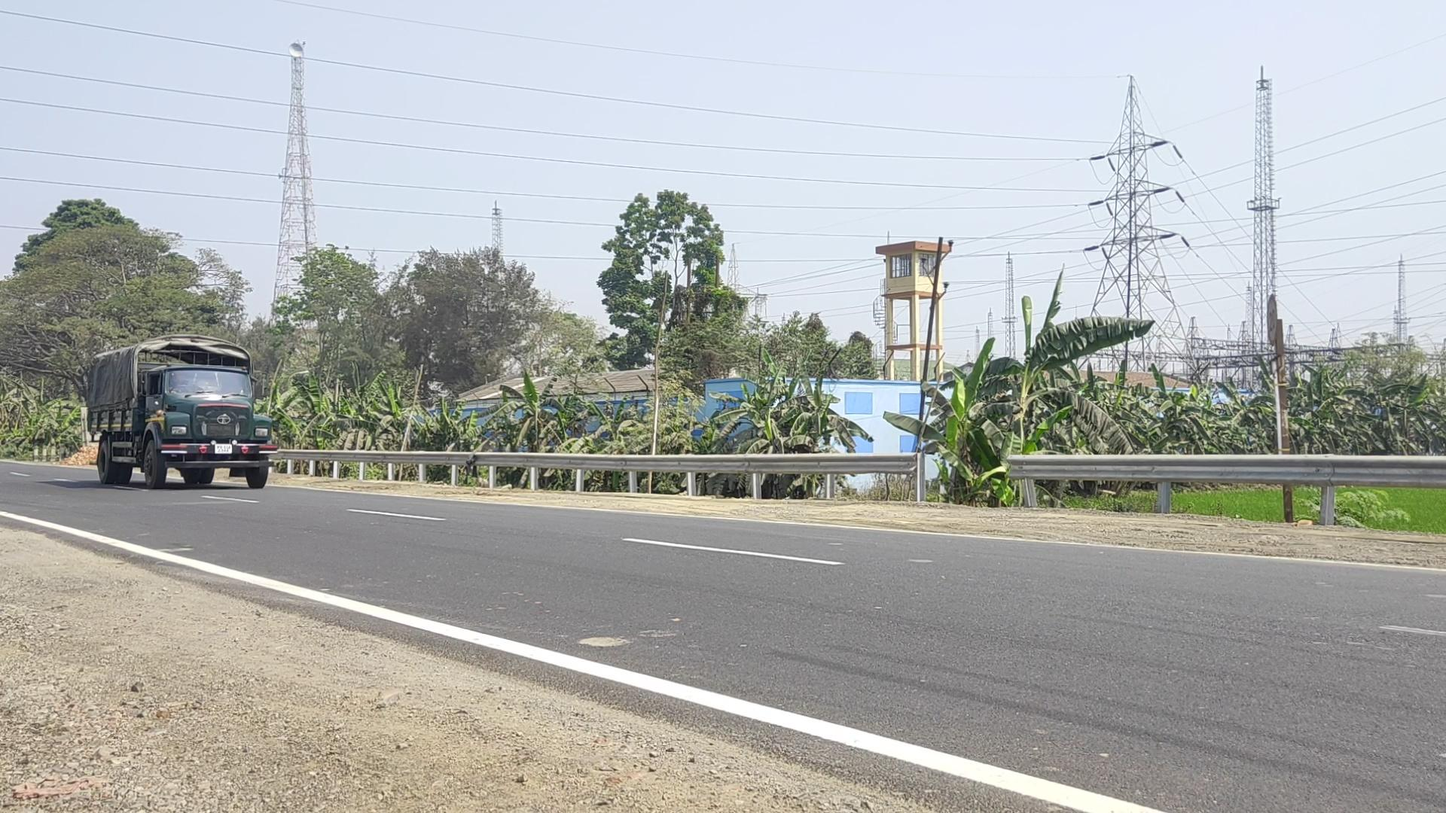truck: (87, 333, 277, 490)
